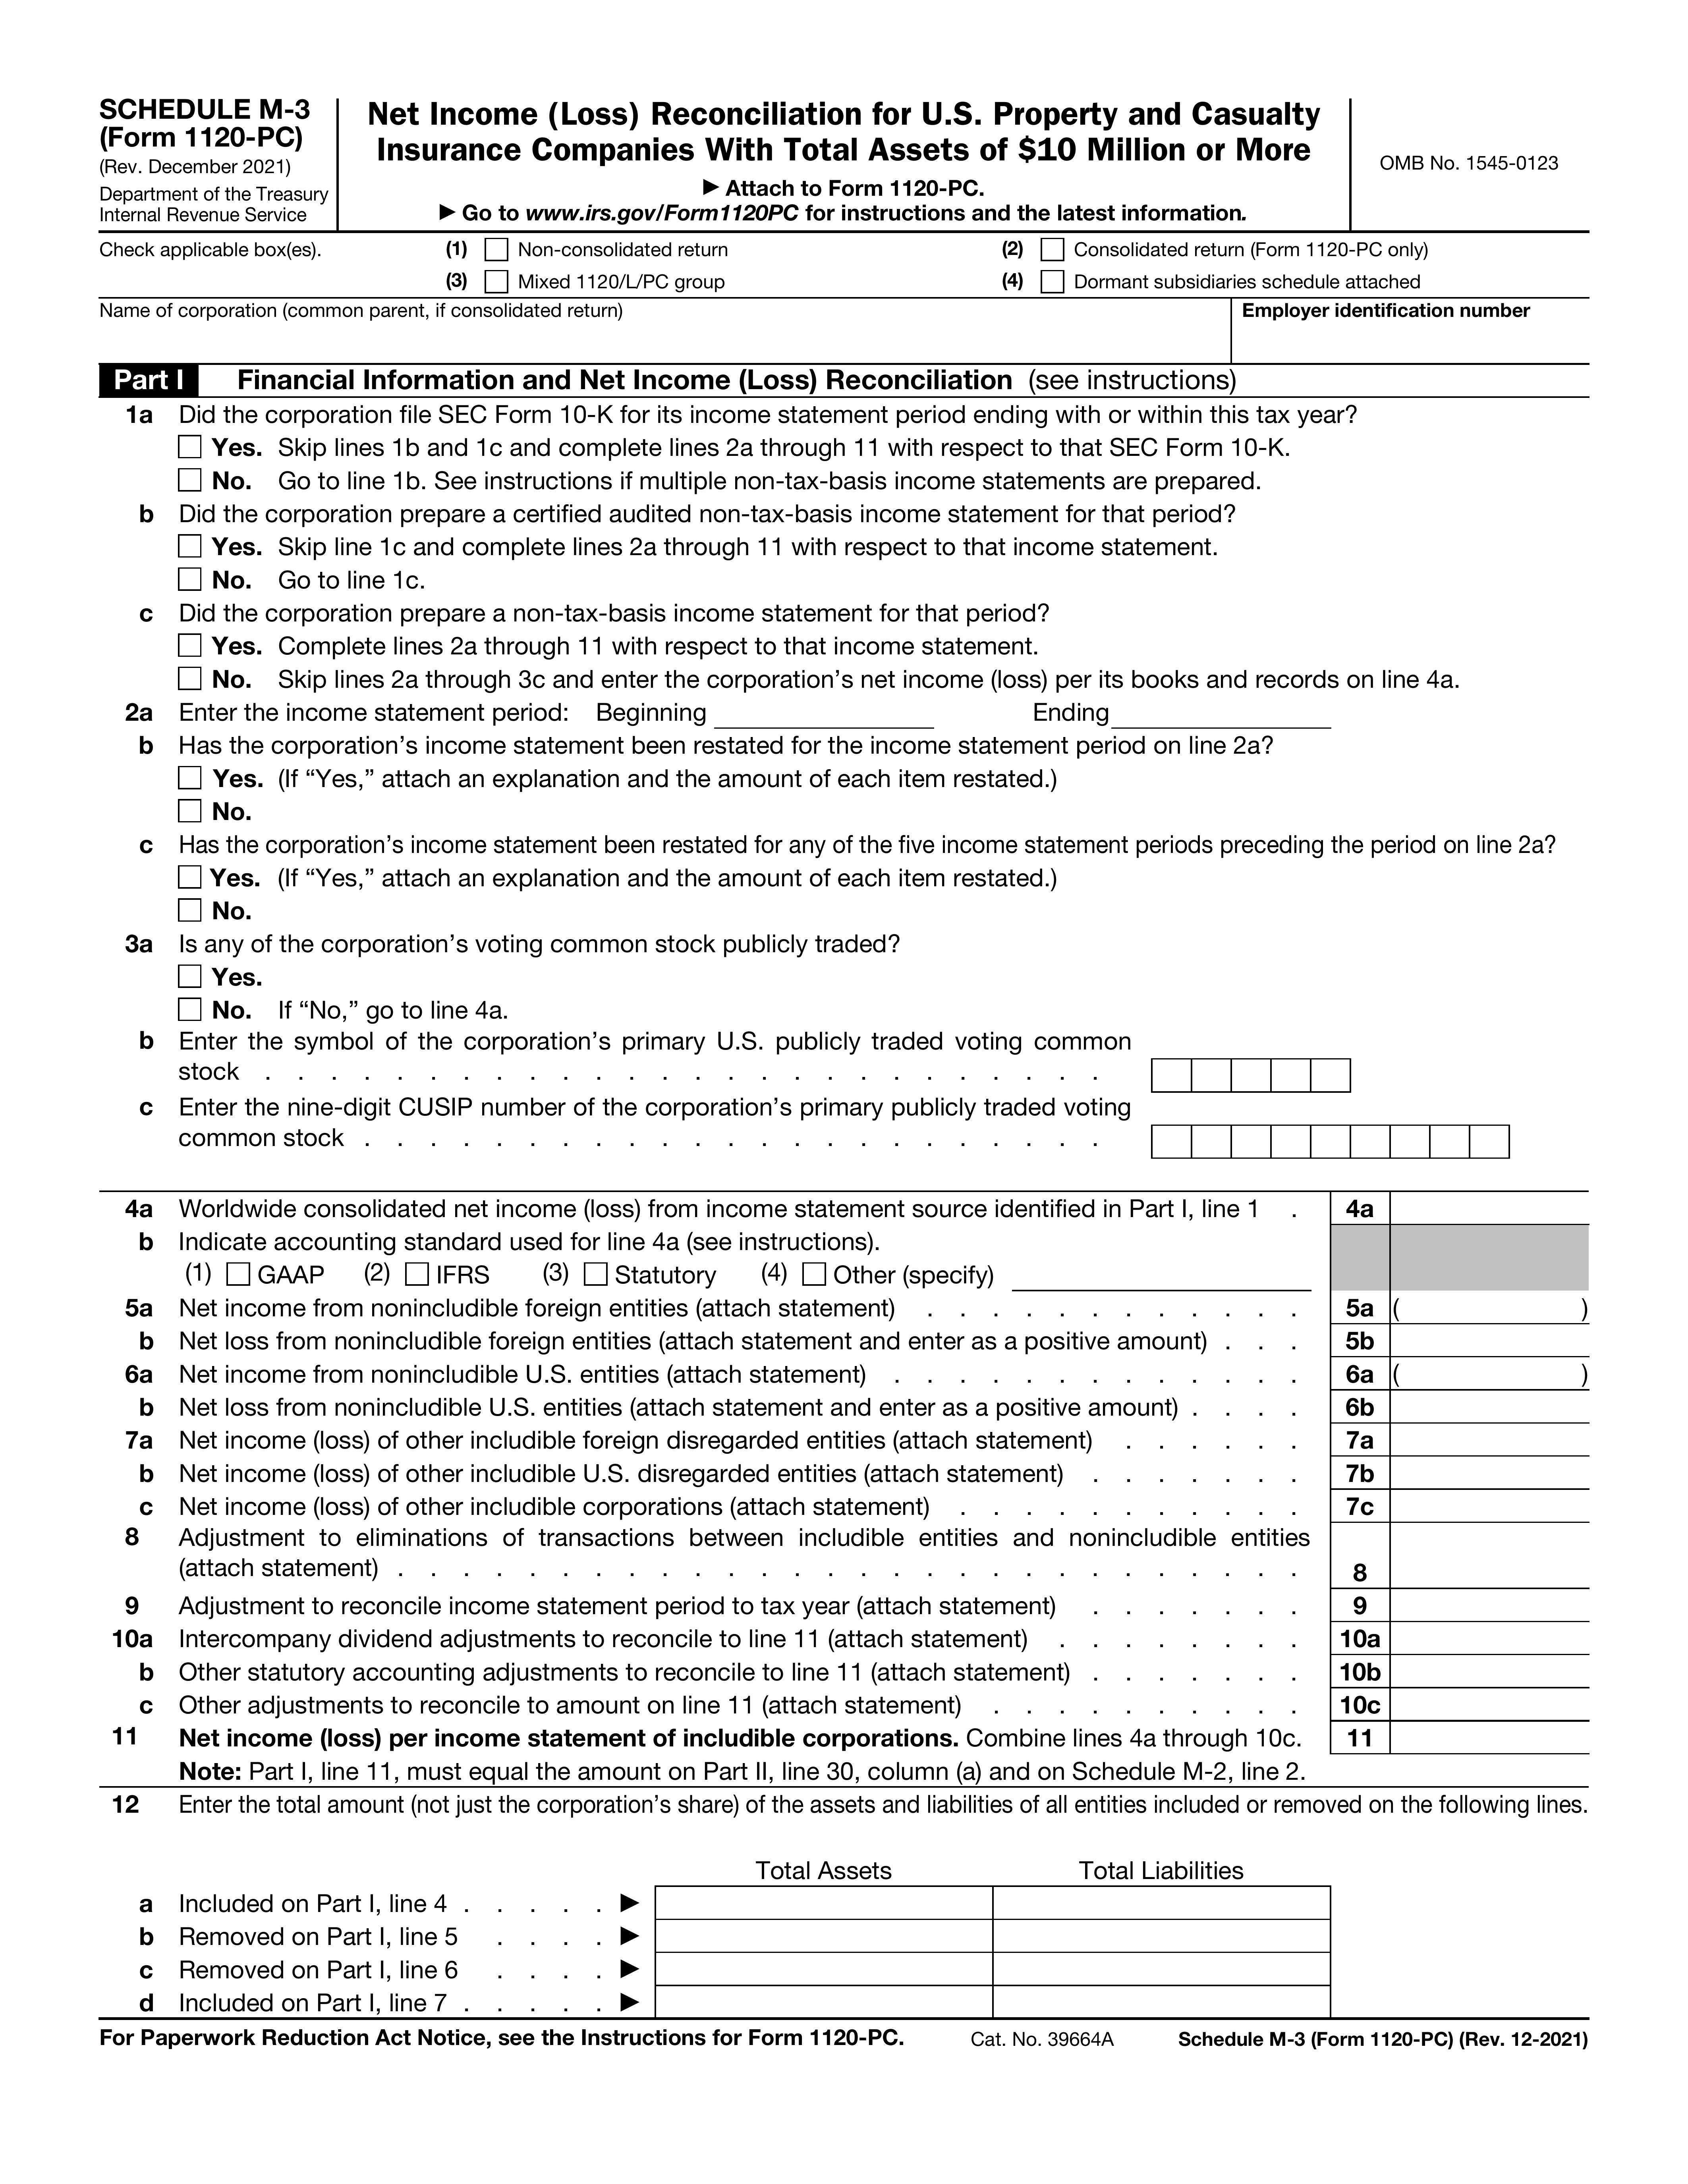form: (83, 85, 1628, 358)
table: (108, 1189, 1610, 1822), (649, 1854, 1349, 2021)
